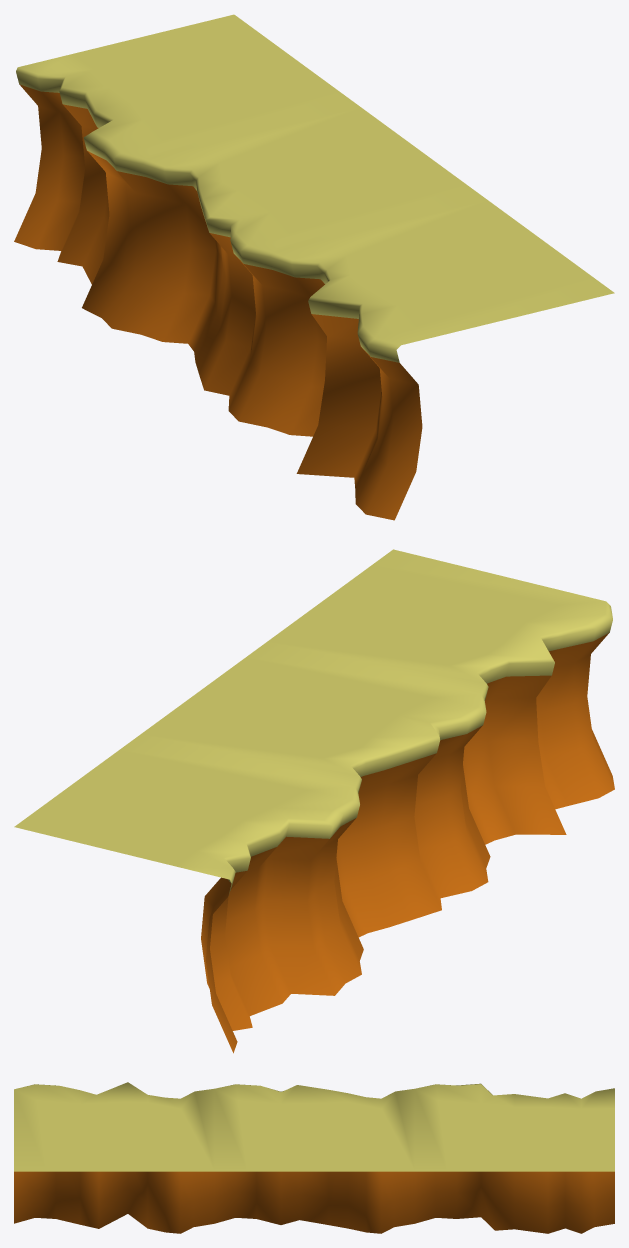
Rendered from ground_05.fbx.
3 renders of one model, top to bottom at view 1: azimuth 30°, elevation 25°; view 2: azimuth 150°, elevation 25°; view 3: azimuth 270°, elevation 25°, orthographic. The views are drawn at different scales.
Visible parts, largest first — view 1: floor_tille.007; view 2: floor_tille.007; view 3: floor_tille.007.
Boxes of the visible parts, x1,y1,x2,y2 form: floor_tille.007: [14, 14, 614, 520]; floor_tille.007: [14, 549, 614, 1053]; floor_tille.007: [14, 1082, 614, 1233].
Bounding box in the file's own units: 1364 × 919 × 3654.
